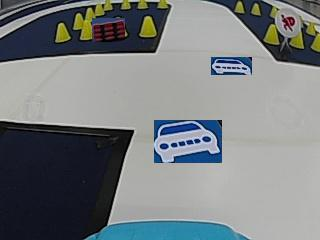thief: (274, 8, 301, 36)
